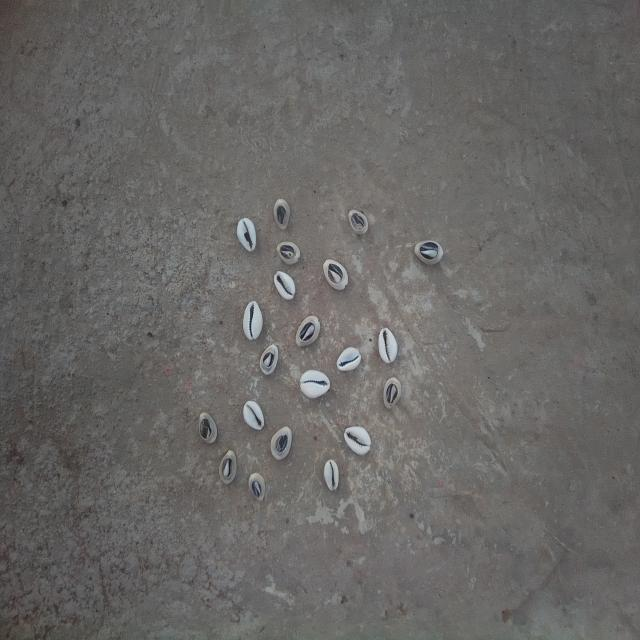facedown: (410, 235, 450, 271), (319, 255, 355, 294), (290, 311, 325, 350), (269, 191, 296, 234), (343, 204, 375, 240), (194, 408, 222, 448), (266, 426, 297, 461), (257, 341, 284, 379), (273, 237, 306, 268), (381, 374, 406, 413), (219, 440, 239, 488), (246, 468, 271, 506)
faceup: (236, 295, 267, 345), (236, 395, 272, 436), (296, 367, 336, 402), (340, 420, 374, 458), (372, 326, 404, 365), (266, 268, 300, 302), (235, 213, 261, 256), (333, 346, 366, 374), (322, 456, 344, 497)
